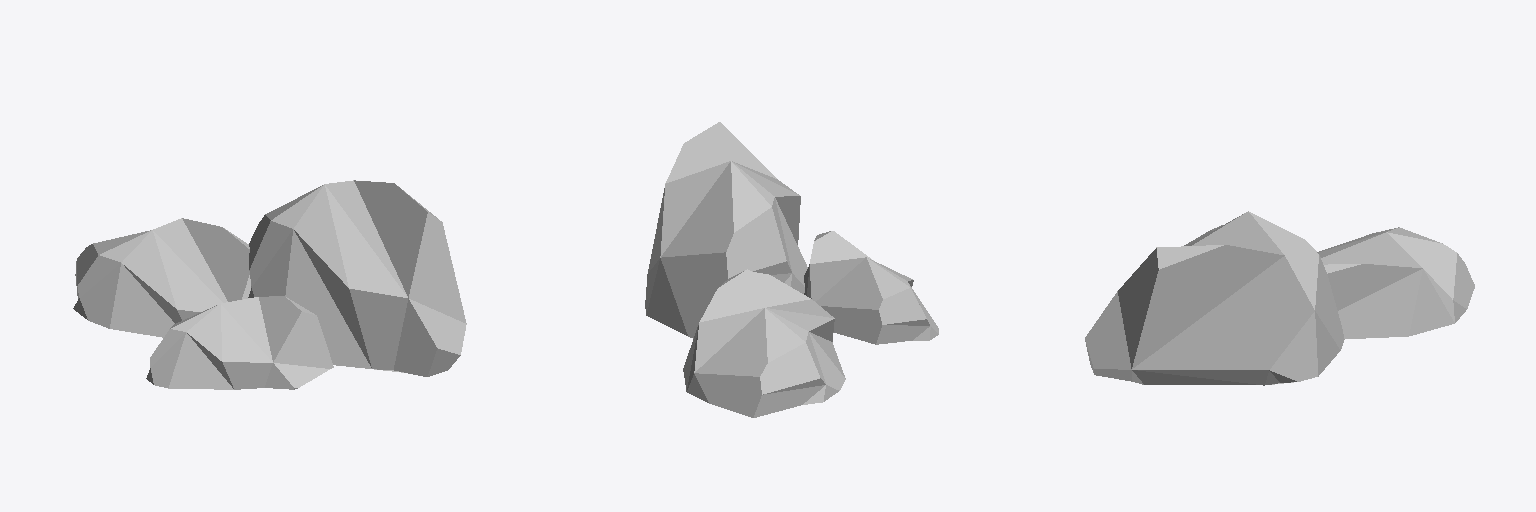
The model's file is island_01_rock_02.obj.
3 renders of one model, left to right at view 1: azimuth 30°, elevation 25°; view 2: azimuth 150°, elevation 25°; view 3: azimuth 270°, elevation 25°, orthographic.
Visible parts, largest first — view 1: Group39795, Group55632; view 2: Group55632, Group39795, Group3941, Group53640; view 3: Group39795, Group55632, Group41696.
Boxes of the visible parts, <box> form: Group39795: <box>248,180,466,376</box>; Group55632: <box>73,218,333,389</box>; Group55632: <box>683,231,938,417</box>; Group39795: <box>645,122,807,338</box>; Group3941: <box>760,288,926,394</box>; Group53640: <box>726,207,786,278</box>; Group39795: <box>1085,211,1344,385</box>; Group55632: <box>1184,225,1474,338</box>; Group41696: <box>1156,245,1223,269</box>.
Size of the model in its own units: 0.4235 by 0.2093 by 0.5244.